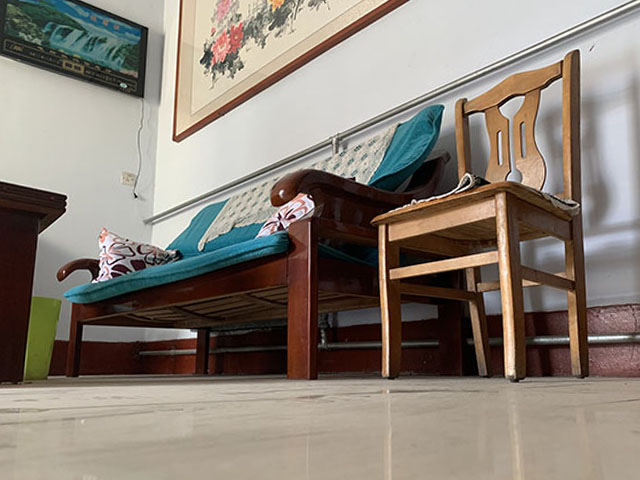stool: (64, 100, 452, 382), (370, 50, 593, 388)
trashcan: (22, 294, 63, 382)
